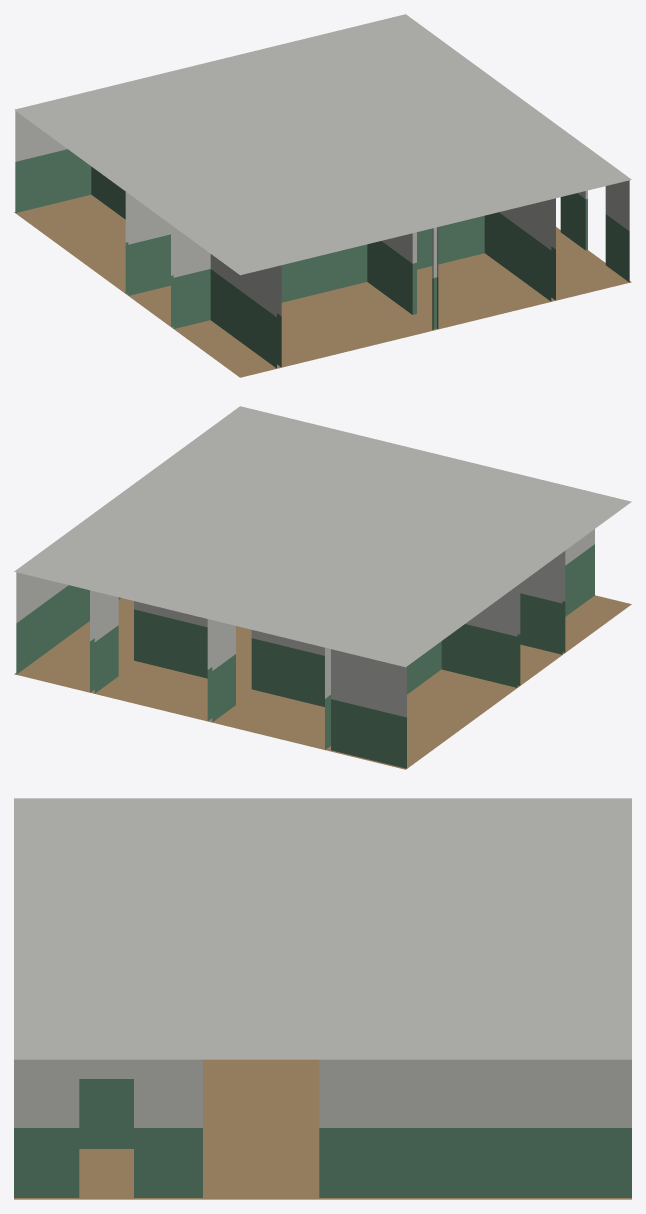
File: chunk_1_1.glb
The picture shows the model from 3 angles, top to bottom: view 1: azimuth 30°, elevation 25°; view 2: azimuth 150°, elevation 25°; view 3: azimuth 270°, elevation 25°; orthographic projection. The views are drawn at different scales.
Parts seen in each view (by area): view 1: chunk_1_1; view 2: chunk_1_1; view 3: chunk_1_1.
Part boxes in pixels (x1,y1,x2,y2): chunk_1_1: (14, 14, 631, 377); chunk_1_1: (14, 406, 631, 769); chunk_1_1: (14, 798, 631, 1199).
Size of the model in its own units: 12 by 3 by 12.
